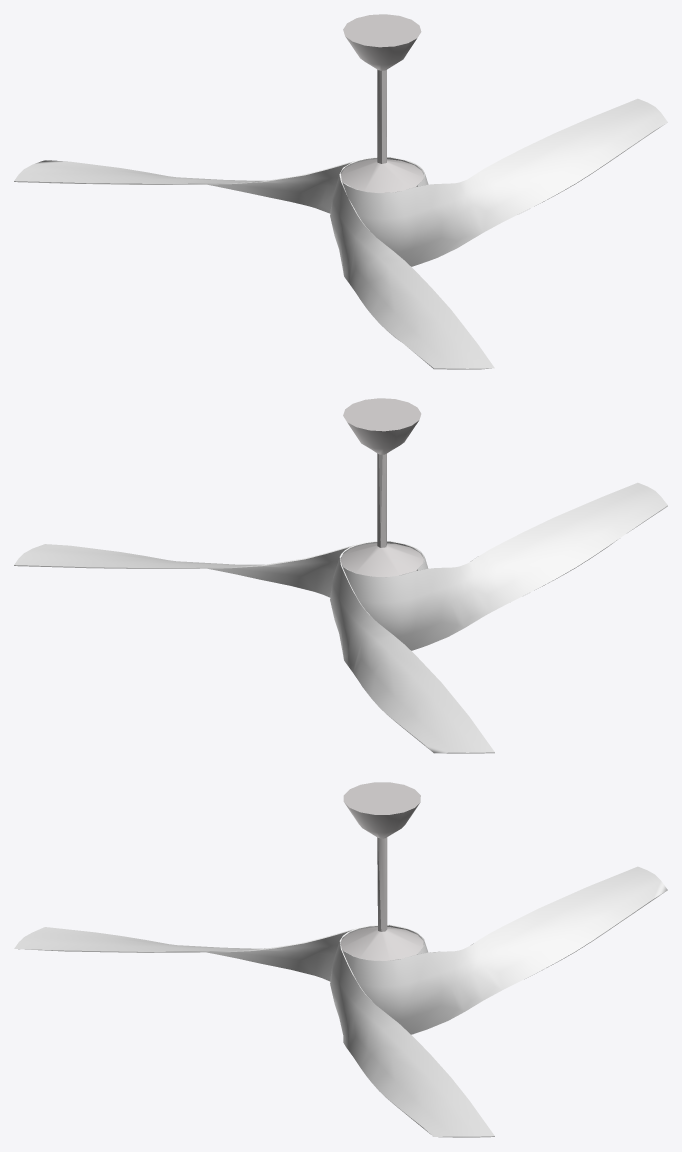
The model's file is Fan.FBX.
3 views of the same model, one above another, from view 1: azimuth 30°, elevation 25°; view 2: azimuth 150°, elevation 25°; view 3: azimuth 270°, elevation 25° (orthographic).
Visible parts, largest first — view 1: Fan; view 2: Fan; view 3: Fan.
Part boxes in pixels (left/top/right/bottom): Fan: left=14, top=14, right=667, bottom=369; Fan: left=14, top=398, right=667, bottom=753; Fan: left=14, top=782, right=667, bottom=1137.
Size of the model in its own units: 88.18 by 34.11 by 89.83.
